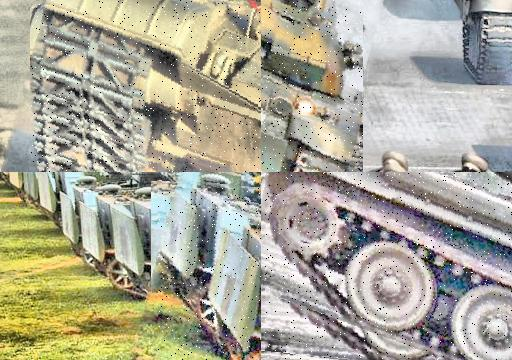tanks: (267, 173, 512, 360), (33, 1, 262, 173), (262, 1, 364, 173), (159, 190, 262, 360), (457, 1, 512, 86), (206, 173, 262, 222)
